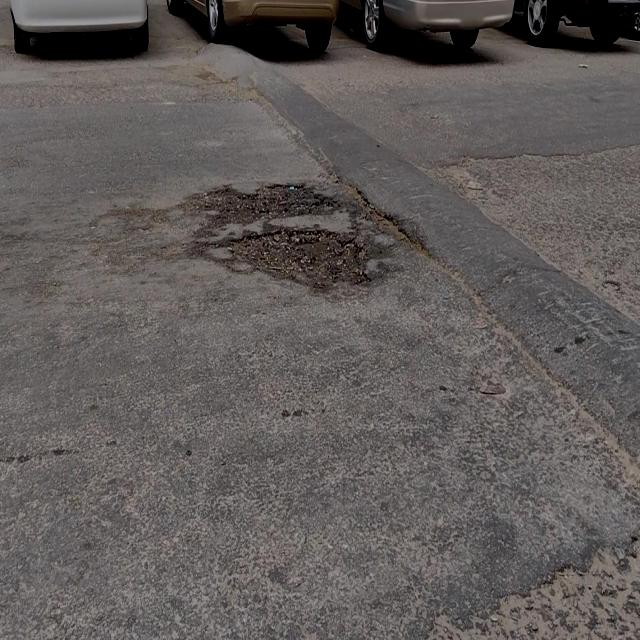Potholes: (221, 226, 373, 290), (201, 179, 337, 230)
